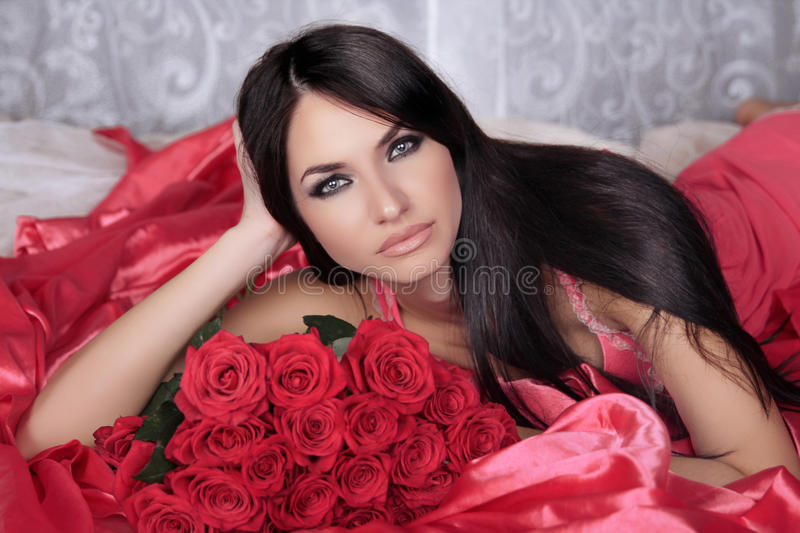RedRose: (178, 335, 271, 415), (263, 325, 345, 405), (171, 461, 264, 531), (166, 405, 264, 469), (349, 328, 431, 400), (444, 401, 525, 469), (278, 395, 347, 473), (270, 471, 334, 533), (125, 484, 198, 533), (336, 396, 396, 449), (391, 468, 454, 517), (415, 364, 470, 417), (334, 450, 389, 503), (390, 417, 438, 473), (243, 439, 286, 490), (331, 494, 390, 530)
